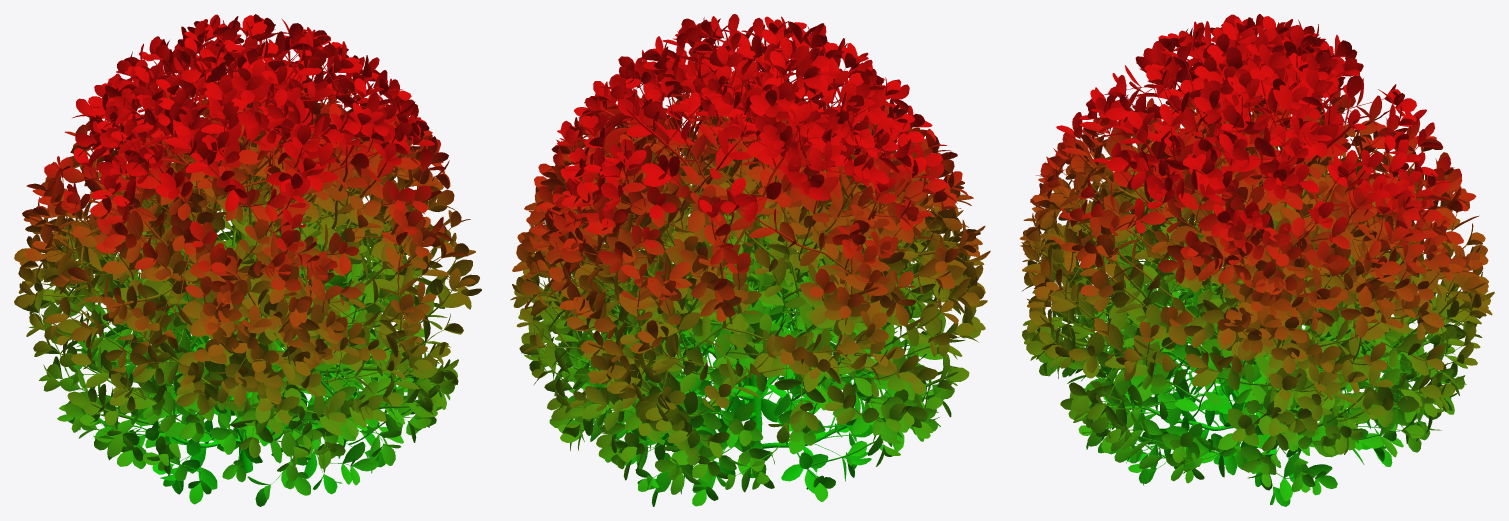
The model's file is Var8_LOD0.fbx.
3 renders of one model, left to right at view 1: azimuth 30°, elevation 25°; view 2: azimuth 150°, elevation 25°; view 3: azimuth 270°, elevation 25°, orthographic.
Parts seen in each view (by area): view 1: _96wz_Var8_LOD0; view 2: _96wz_Var8_LOD0; view 3: _96wz_Var8_LOD0.
Part boxes in pixels (x1,y1,x2,y2): _96wz_Var8_LOD0: (14,14,481,506); _96wz_Var8_LOD0: (510,14,990,506); _96wz_Var8_LOD0: (1020,14,1494,506).
Bounding box in the file's own units: 46.86 × 49.12 × 48.31.
